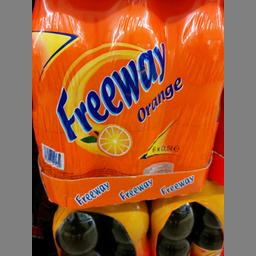soda: (31, 0, 222, 209)
